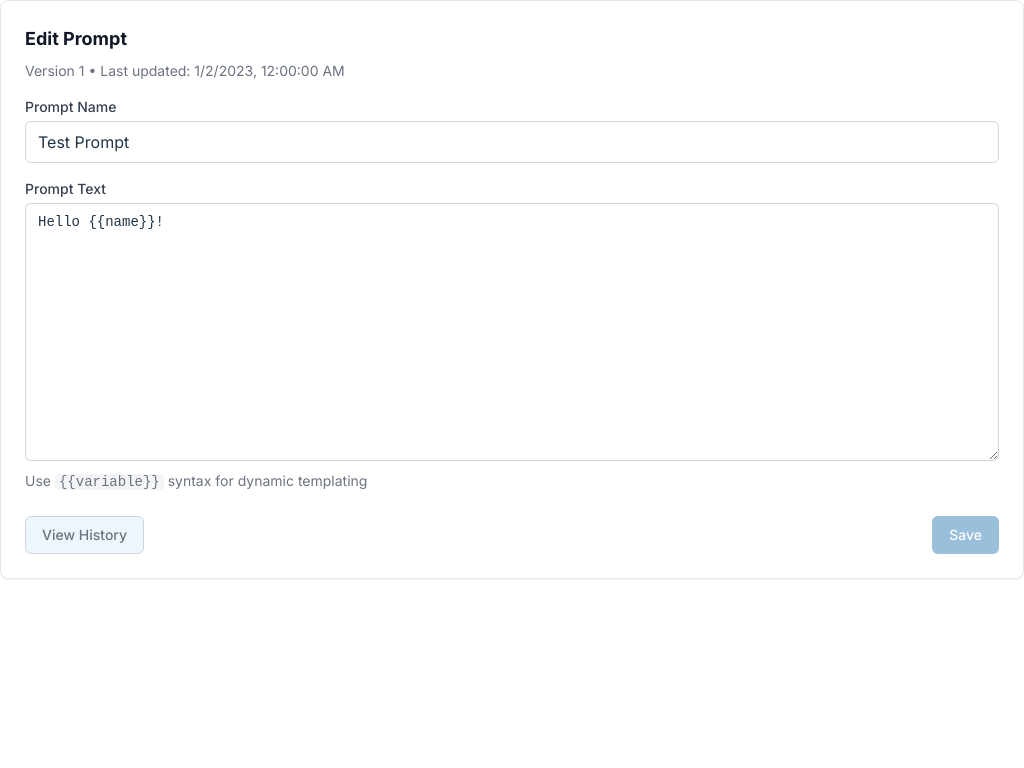
Scenario: PromptEditor › shows error message when save fails
Replace the text in the field labelled "Prompt Name" with "Updated Prompt". click: (512, 142)
box: [25, 121, 999, 163]
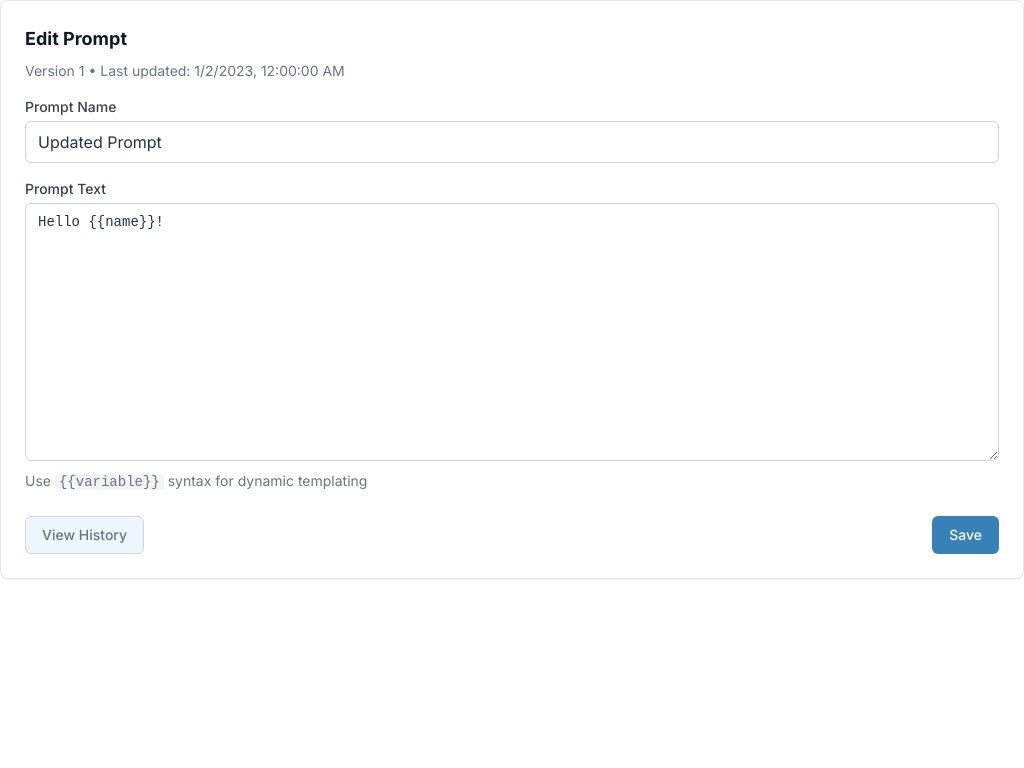
Click the button "Save". click: (966, 535)
box: [932, 516, 999, 554]
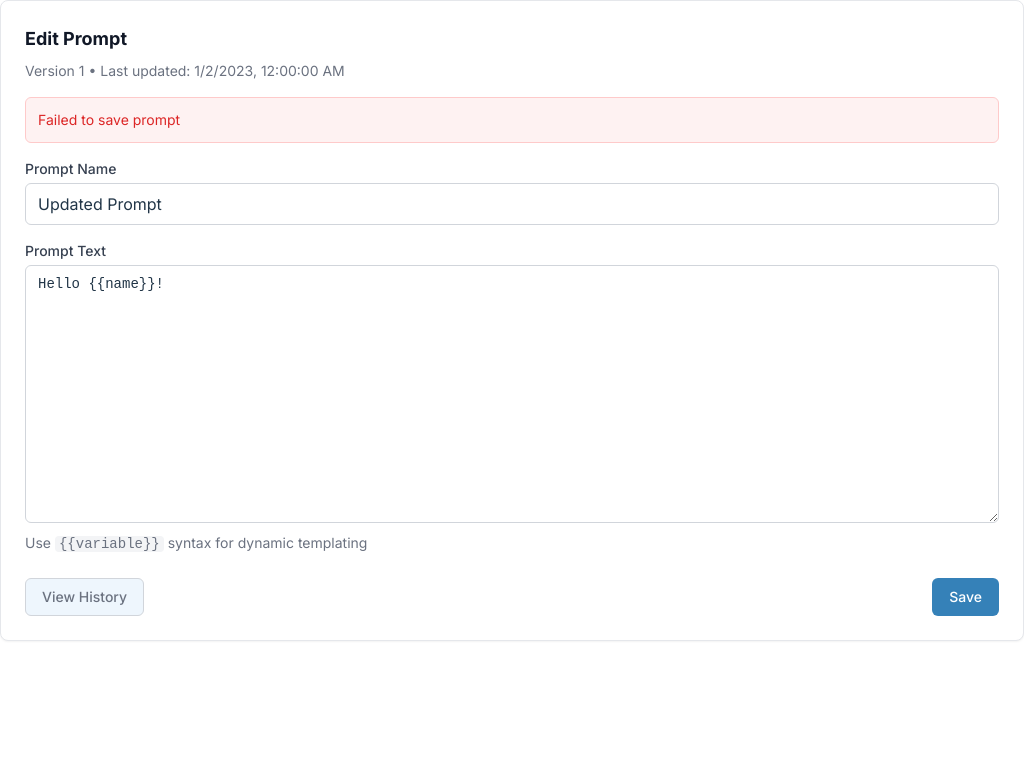
Result: the text "Failed to save prompt" is shown at [38, 111, 180, 128]
